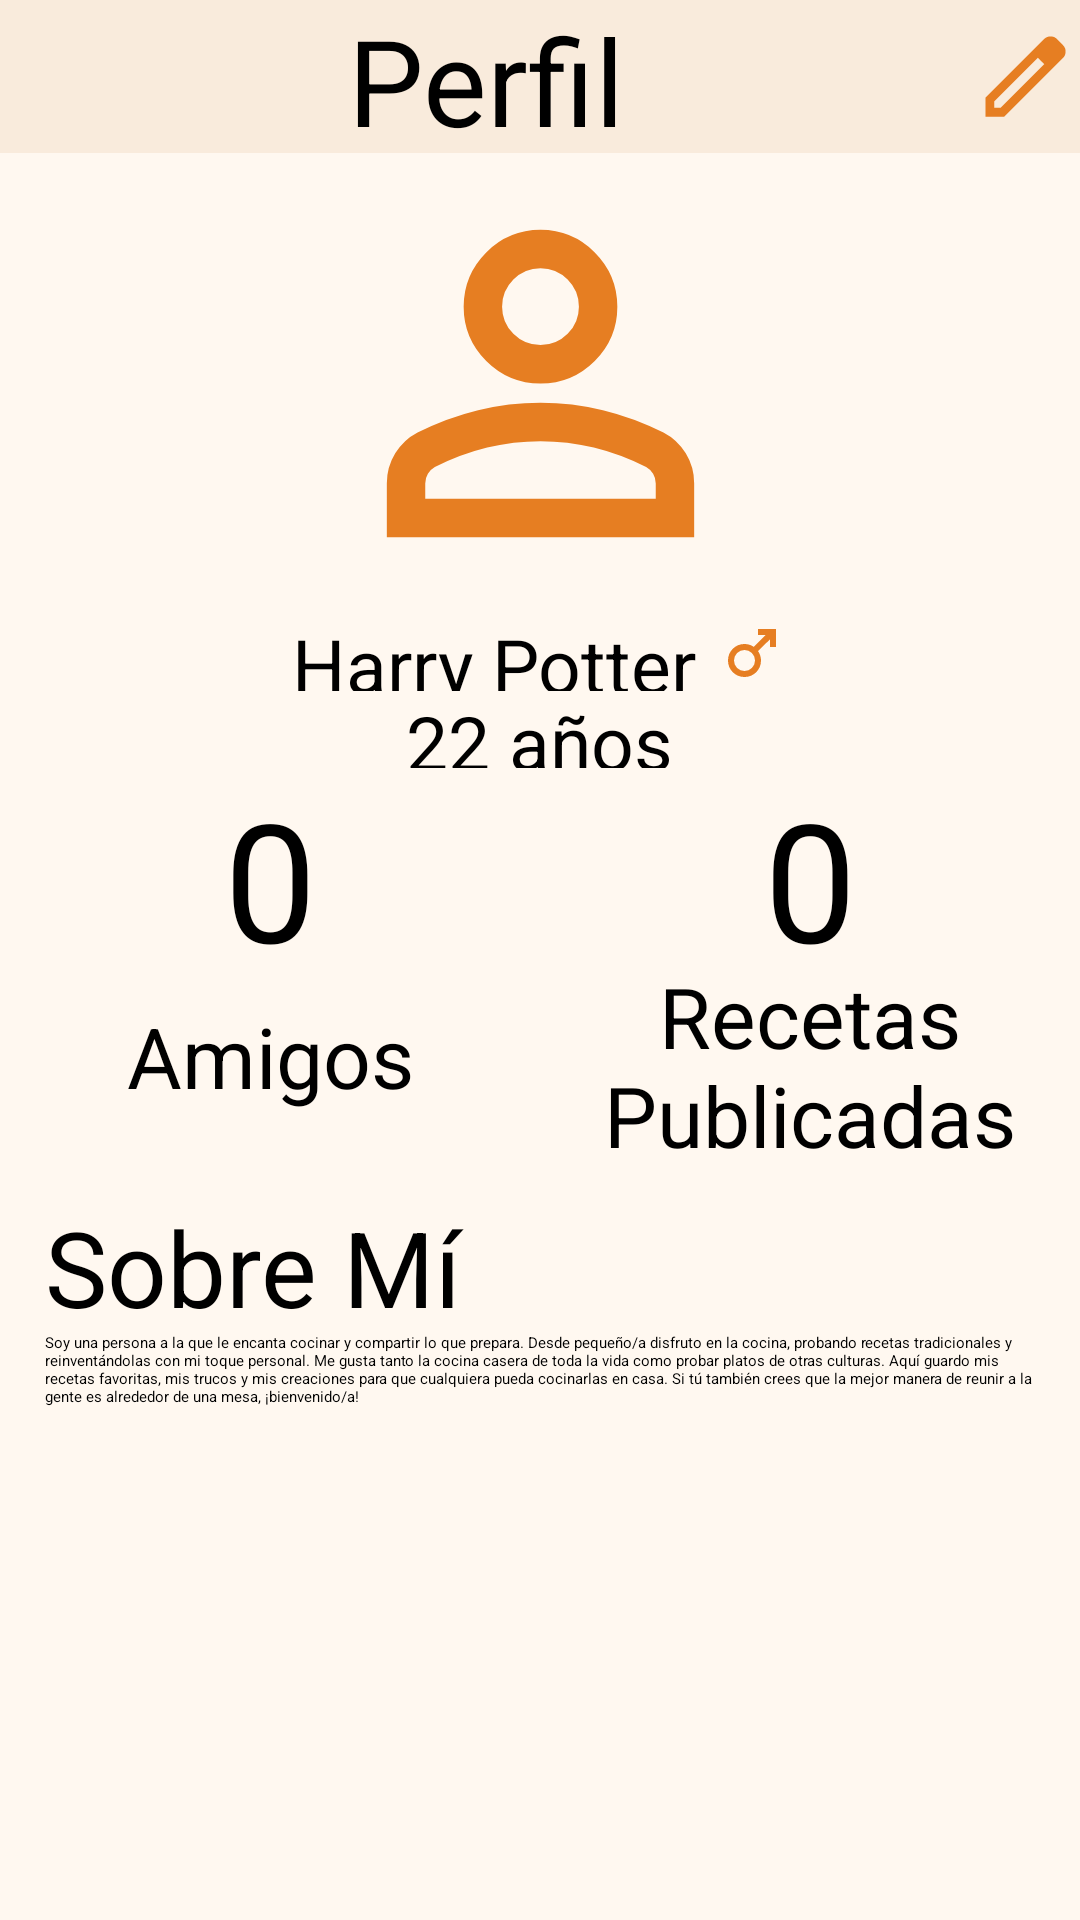

Named icons in this screenshot (1080w x 1920h) and their bounding boxes, (x1, y1, x2, y2):
edit: (985, 36, 1066, 117)
male: (728, 629, 776, 677)
profile: (386, 229, 695, 538)
